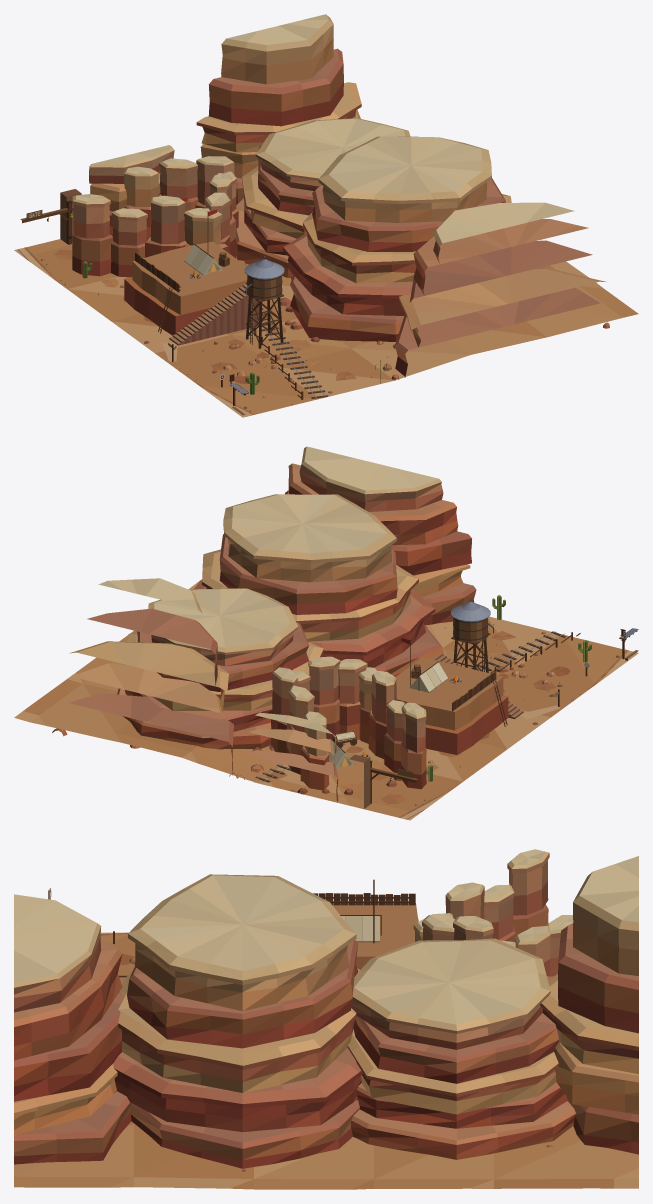
3 views of the same model, one above another, from view 1: azimuth 30°, elevation 25°; view 2: azimuth 150°, elevation 25°; view 3: azimuth 270°, elevation 25° (orthographic). The views are drawn at different scales.
Parts seen in each view (by area): view 1: baked; view 2: baked; view 3: baked.
Part boxes in pixels (box(x1,y1,x2,y2)): baked: box(14, 14, 638, 417); baked: box(14, 446, 638, 820); baked: box(14, 849, 638, 1189).
Bounding box in the file's own units: 62.5 × 24.16 × 62.5.
